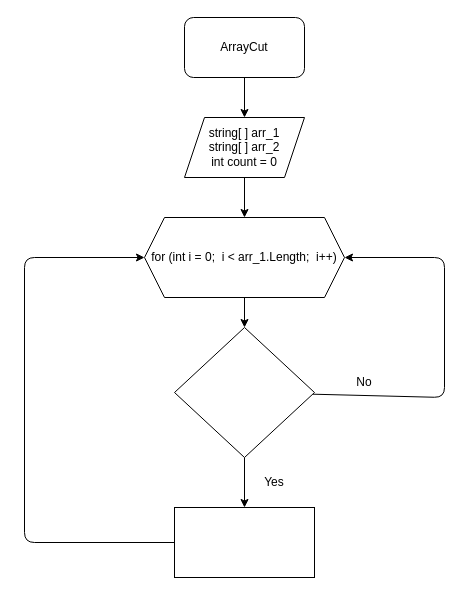
The diagram is 470 pixels wide and 595 high, and some of its shapes have lost their labels. The shapes that lost their labels are listed below. From the top down, each one's centre as x and y in pixels, then its label:
At point (244, 392): "if (arr_1[i].Length <= 3)".
At point (244, 542): "arr_2[count] = arr_1[i] count++".
